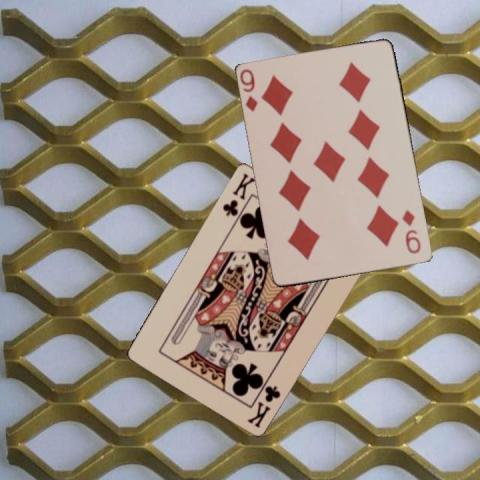9d: (399, 207, 423, 255), (238, 66, 259, 113)
Kc: (219, 170, 257, 217), (245, 382, 282, 429)
